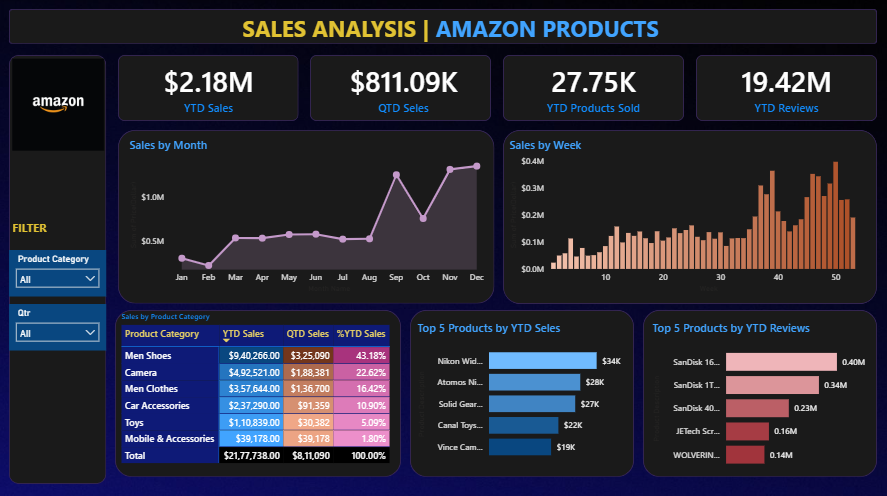

The dashboard page shown, as its layout file describes it:
{"tool":"powerbi","page":{"name":"Page 1","canvas":[1280,720],"ordinal":0},"visuals":[{"type":"shape","box":[14.4,13,1249.9,50.4],"z":0},{"type":"textbox","box":[345.6,13,623.5,54.7],"z":1000},{"type":"shape","box":[171.4,79.2,260,95],"z":2000},{"type":"shape","box":[447.8,79.2,260.6,95],"z":3000},{"type":"card","fields":{"Values":["Amazon_Data.YTD Sales"]},"box":[171.4,79.2,260.6,95],"z":4000},{"type":"shape","box":[725.8,79.2,260.6,95],"z":5000},{"type":"shape","box":[1003.7,79.2,260.6,95],"z":6000},{"type":"card","fields":{"Values":["Amazon_Data.QTD Seles"]},"box":[452.2,79.2,260.6,95],"z":7000},{"type":"card","fields":{"Values":["Amazon_Data.YTD Products Sold"]},"box":[725.8,79.2,260.6,95],"z":8000},{"type":"card","fields":{"Values":["Amazon_Data.YTD Reviews"]},"box":[1003.7,79.2,260.6,95],"z":9000},{"type":"shape","box":[171.4,187.2,542,250],"z":10000},{"type":"areaChart","title":"Sales by Month","fields":{"Category":["Date Table.Month Name"],"Y":["Sum(Amazon_Data.Price(Dollar))"]},"box":[182.9,197.3,525.6,229],"z":11000},{"type":"shape","box":[725.8,187.2,538.6,250.6],"z":12000},{"type":"columnChart","title":"Sales by Week","fields":{"Category":["Date Table.Week"],"Y":["Sum(Amazon_Data.Price(Dollar))"]},"box":[730.1,197.3,528.5,229],"z":13000},{"type":"shape","box":[167,446.4,411.8,240.5],"z":14000},{"type":"pivotTable","title":"Sales by Product Category","fields":{"Rows":["Amazon_Data.Product Category"],"Values":["Amazon_Data.YTD Sales1","Amazon_Data.QTD Seles","Amazon_Data.YTD Sales"]},"box":[171.4,447.8,411.8,239],"z":15000},{"type":"actionButton","box":[0,0,100,40],"z":16000},{"type":"shape","box":[591.8,446.4,322.6,240.5],"z":17000},{"type":"shape","box":[927.4,446.4,337,240.5],"z":18000},{"type":"clusteredBarChart","title":"Top 5 Products by YTD Seles","fields":{"Category":["Amazon_Data.Product Description"],"Y":["Amazon_Data.YTD Sales"]},"box":[597.6,460.8,313.9,213.1],"z":19000},{"type":"clusteredBarChart","title":"Top 5 Products by YTD Reviews","fields":{"Category":["Amazon_Data.Product Description"],"Y":["Amazon_Data.YTD Reviews"]},"box":[936,460.8,322.6,226.1],"z":20000},{"type":"shape","box":[14.9,78.9,139.9,617.7],"z":21000},{"type":"slicer","fields":{"Values":["Amazon_Data.Product Category"]},"box":[14.9,360.2,139.9,67],"z":22000},{"type":"slicer","fields":{"Values":["Date Table.Qtr"]},"box":[14.9,437.6,139.9,67],"z":23000},{"type":"image","box":[8.6,79.2,152.6,142.6],"z":24000},{"type":"textbox","box":[14.4,312.5,126.7,40.3],"z":25000}]}

Visuals, with their boxes in screenshot pixels (x1, y1, x2, y2), scaled from the page's 1280x720 canvas onto the 887x496 screenshot:
shape: <bbox>10, 9, 876, 44</bbox>
textbox: <bbox>239, 9, 672, 47</bbox>
shape: <bbox>119, 55, 299, 120</bbox>
shape: <bbox>310, 55, 491, 120</bbox>
card - Amazon_Data.YTD Sales: <bbox>119, 55, 299, 120</bbox>
shape: <bbox>503, 55, 684, 120</bbox>
shape: <bbox>696, 55, 876, 120</bbox>
card - Amazon_Data.QTD Seles: <bbox>313, 55, 494, 120</bbox>
card - Amazon_Data.YTD Products Sold: <bbox>503, 55, 684, 120</bbox>
card - Amazon_Data.YTD Reviews: <bbox>696, 55, 876, 120</bbox>
shape: <bbox>119, 129, 494, 301</bbox>
"Sales by Month" areaChart: <bbox>127, 136, 491, 294</bbox>
shape: <bbox>503, 129, 876, 302</bbox>
"Sales by Week" columnChart: <bbox>506, 136, 872, 294</bbox>
shape: <bbox>116, 308, 401, 473</bbox>
"Sales by Product Category" pivotTable: <bbox>119, 308, 404, 473</bbox>
actionButton: <bbox>0, 0, 69, 28</bbox>
shape: <bbox>410, 308, 634, 473</bbox>
shape: <bbox>643, 308, 876, 473</bbox>
"Top 5 Products by YTD Seles" clusteredBarChart: <bbox>414, 317, 632, 464</bbox>
"Top 5 Products by YTD Reviews" clusteredBarChart: <bbox>649, 317, 872, 473</bbox>
shape: <bbox>10, 54, 107, 480</bbox>
slicer - Amazon_Data.Product Category: <bbox>10, 248, 107, 294</bbox>
slicer - Date Table.Qtr: <bbox>10, 301, 107, 348</bbox>
image: <bbox>6, 55, 112, 153</bbox>
textbox: <bbox>10, 215, 98, 243</bbox>
